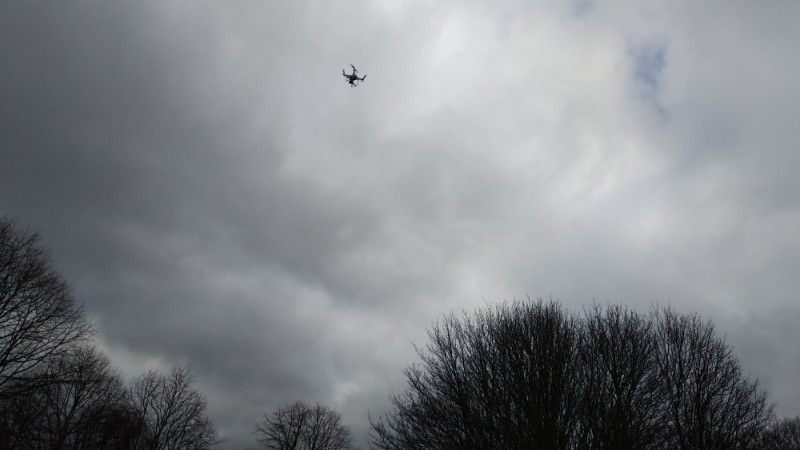drone: (342, 64, 368, 88)
